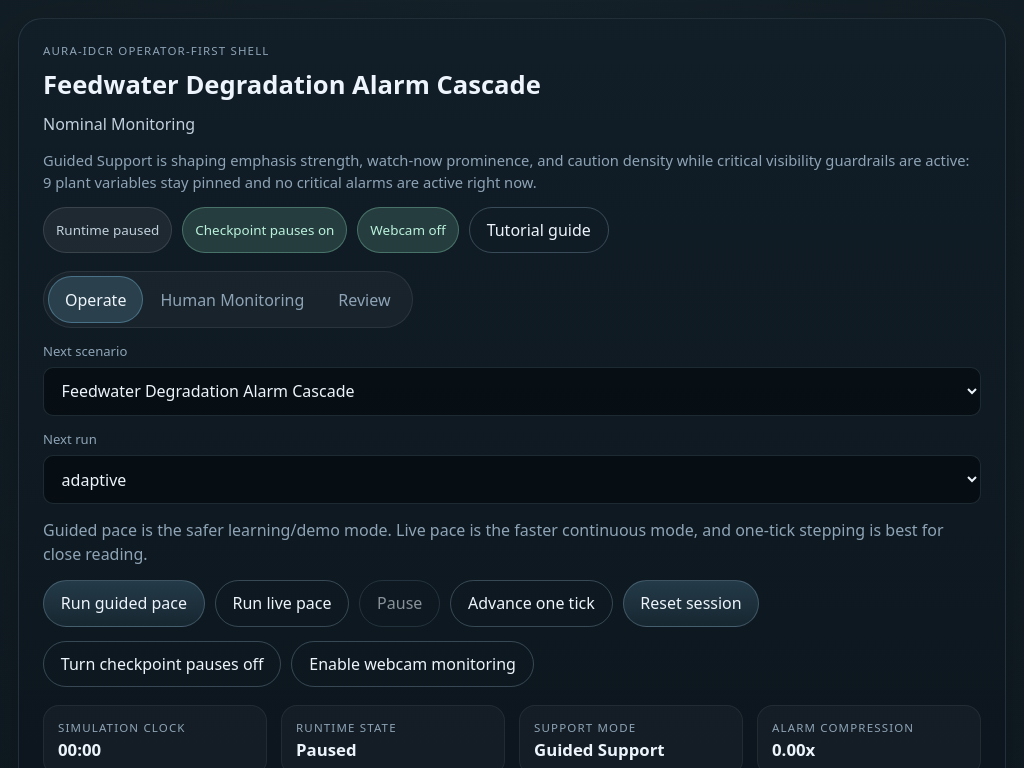
Test case: AuraSessionStore › shows unavailable webcam handling honestly inside the human monitoring workspace
Click the tab "Human Monitoring" at (232, 300), box [143,276,321,323]
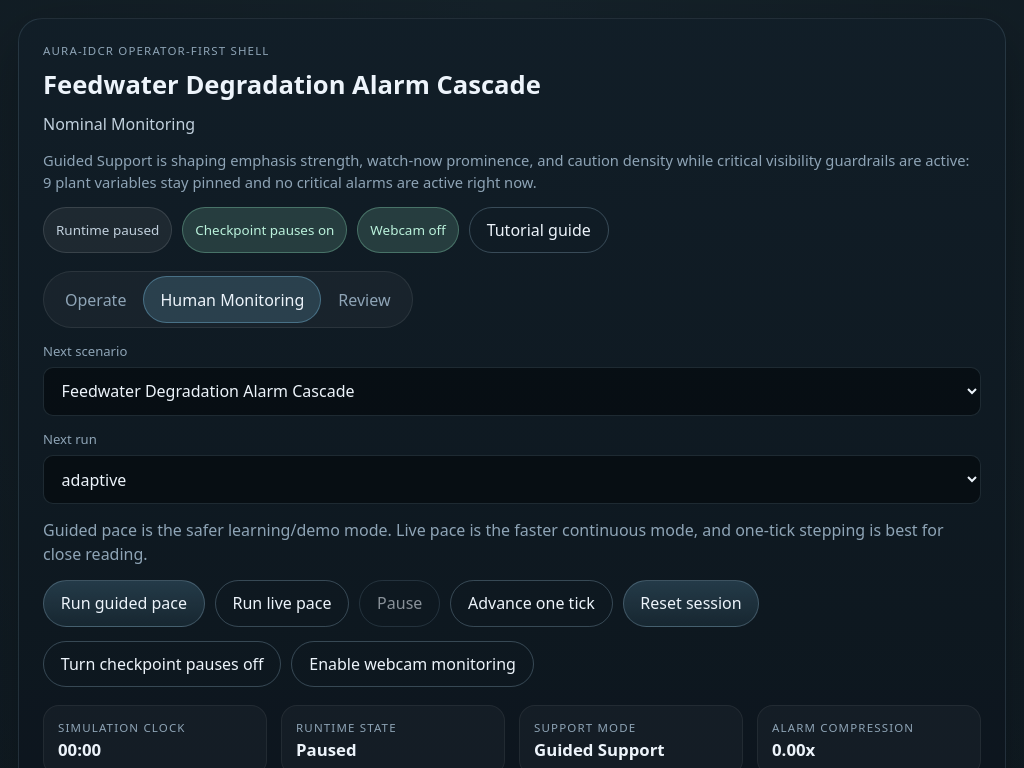
Click the button "Enable webcam monitoring" at (413, 664), box [291,641,534,687]
(page scrolled)
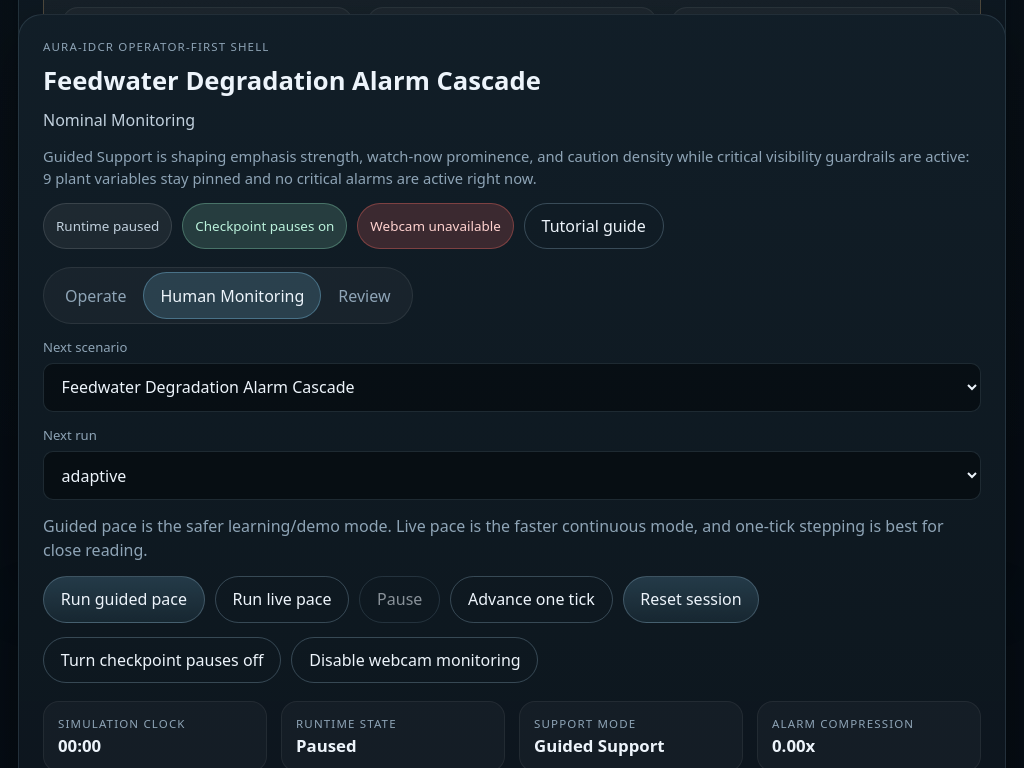
Now the text "Webcam unavailable" is shown, box [357,203,514,249]
Now the text "unavailable" is shown, box [77,373,175,396]
